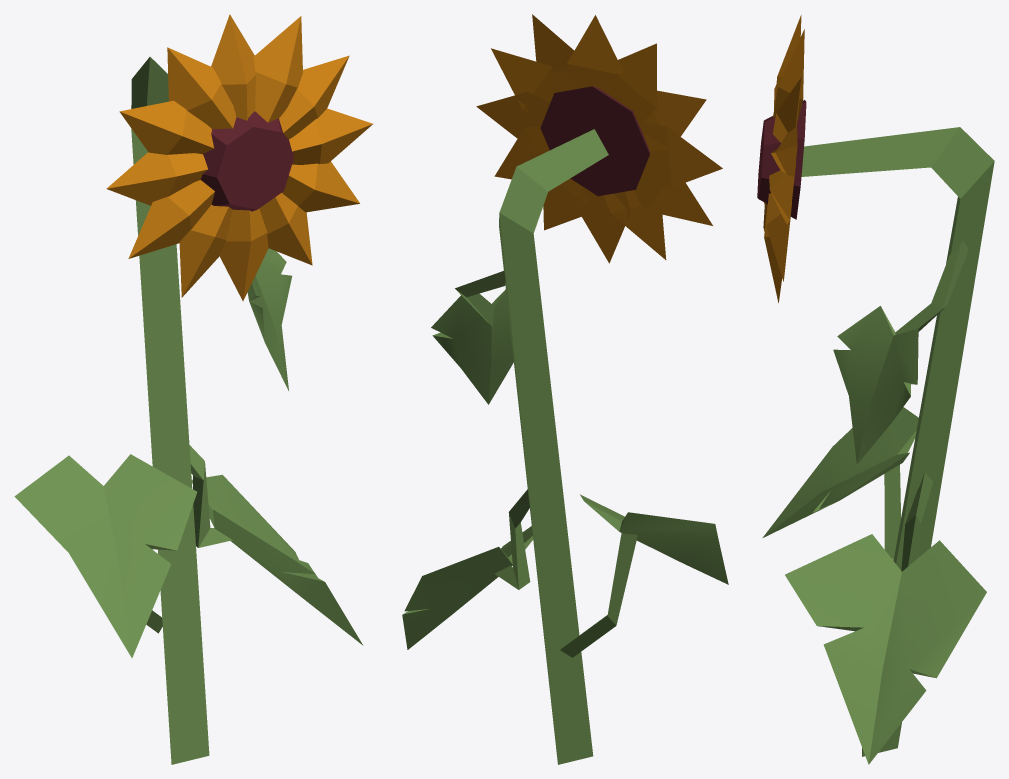
Rendered from Sunflower.fbx.
The picture shows the model from 3 angles, left to right: view 1: azimuth 30°, elevation 25°; view 2: azimuth 150°, elevation 25°; view 3: azimuth 270°, elevation 25°; orthographic projection. The views are drawn at different scales.
Parts seen in each view (by area): view 1: Sunflower; view 2: Sunflower; view 3: Sunflower.
Boxes of the visible parts, <box> form: Sunflower: <box>14,14,372,764</box>; Sunflower: <box>402,14,728,764</box>; Sunflower: <box>757,15,994,764</box>.
Bounding box in the file's own units: 28.46 × 61.37 × 18.24.
